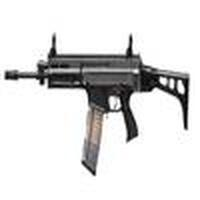gun: (1, 34, 200, 141)
